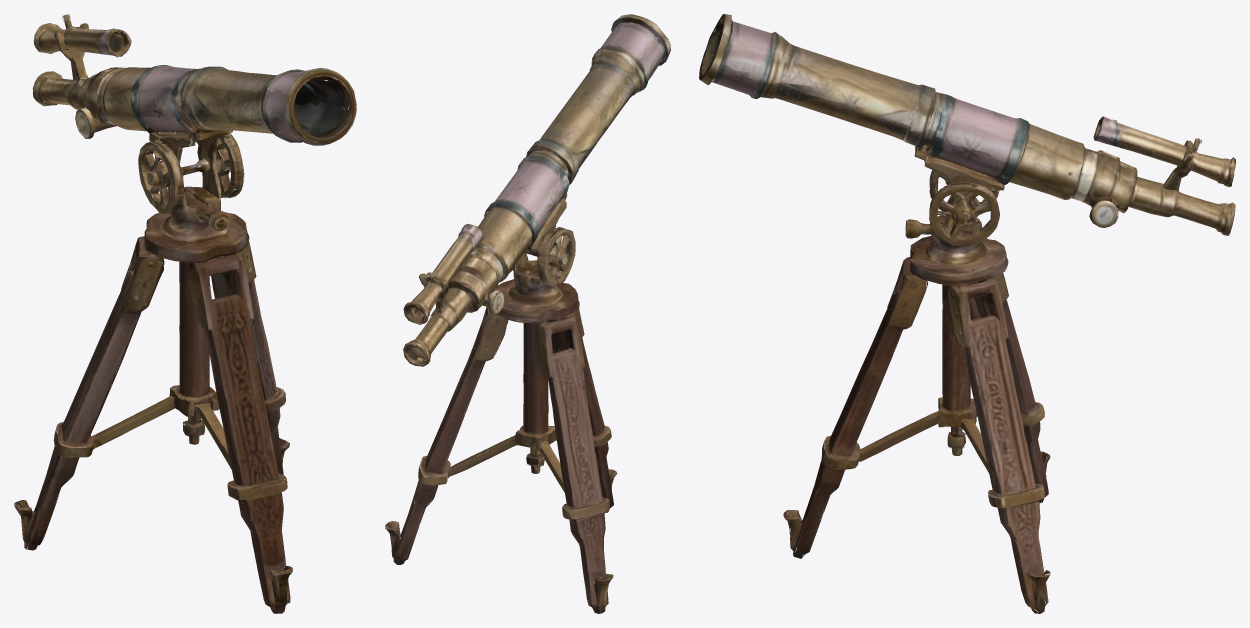
File: observatory.glb
3 renders of one model, left to right at view 1: azimuth 30°, elevation 25°; view 2: azimuth 150°, elevation 25°; view 3: azimuth 270°, elevation 25°, orthographic. The views are drawn at different scales.
Parts seen in each view (by area): view 1: geometry_0; view 2: geometry_0; view 3: geometry_0.
Part boxes in pixels (x1,y1,x2,y2): geometry_0: (14,14,356,613); geometry_0: (385,14,670,613); geometry_0: (699,14,1235,613).
Size of the model in its own units: 0.4737 by 0.9507 by 0.8585.
Materials: 1 (1 with a texture image).
